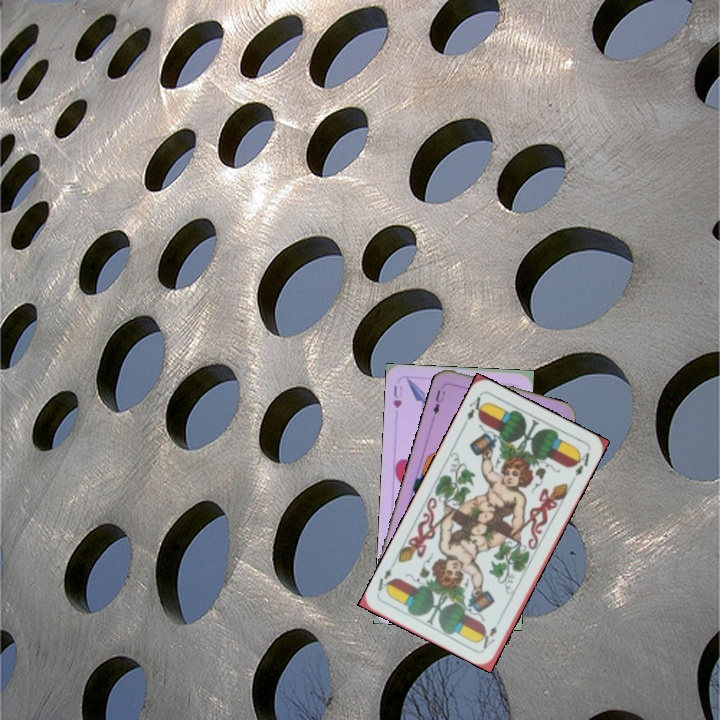EA: (459, 392, 488, 429), (479, 622, 500, 651)
EU: (429, 381, 449, 420)
HU: (389, 381, 405, 411)
